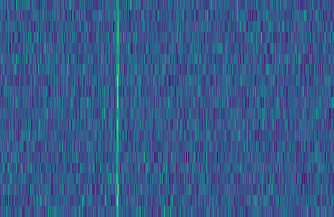signal: (111, 0, 120, 217)
